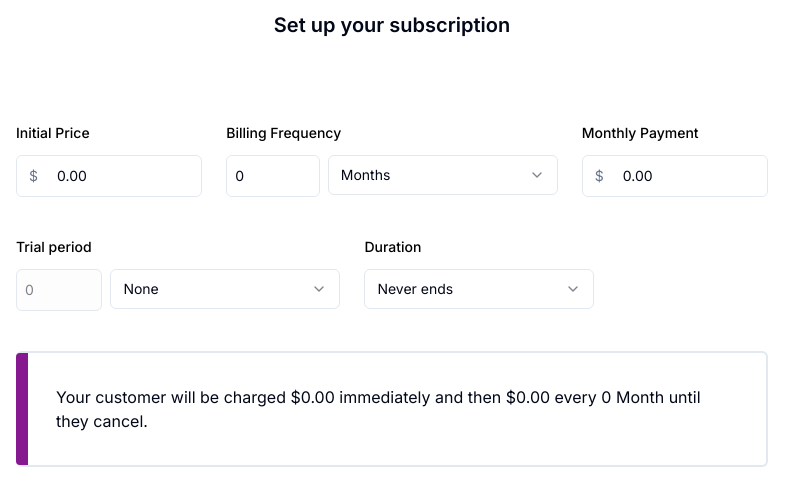
Test: Test permutation default text › should show permutation to Trial with never ending subscription
Click the dropdown with test id "trialFrequency".
click(225, 289)  # box left=110, top=269, right=340, bottom=309
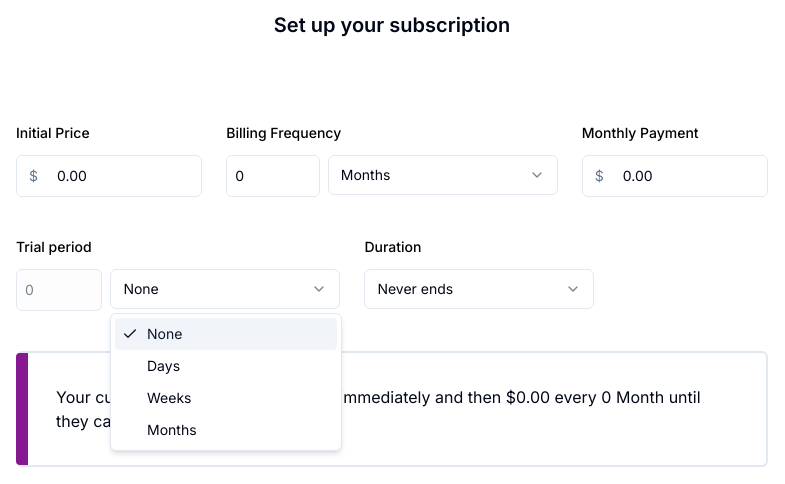
Click the option with test id "trialFrequency_Days".
click(164, 366)  # box left=147, top=357, right=180, bottom=374
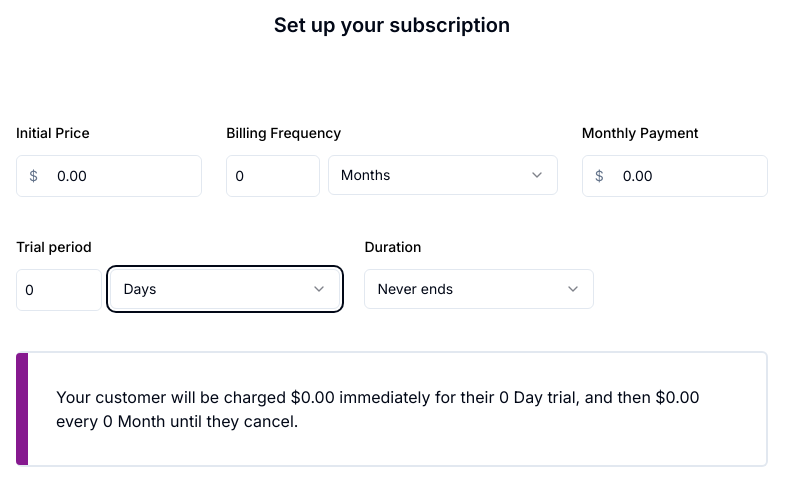
Expected: the text "Your customer will be charged $0.00 immediately for their 0 Day trial, and then $0.00 every 0 Month until they cancel." is shown, left=56, top=387, right=700, bottom=431
